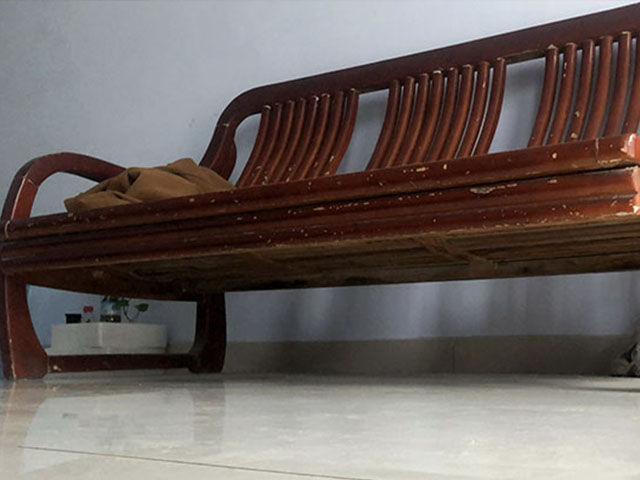sofa: (1, 6, 639, 380)
